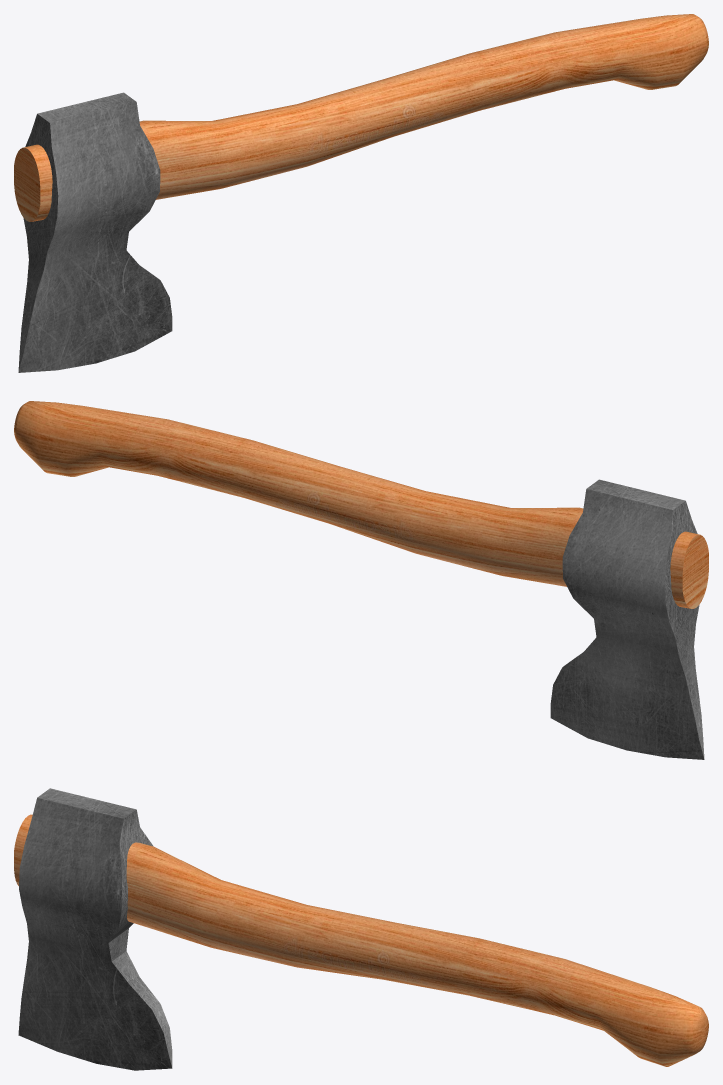
The model's file is AXE-split.fbx.
The picture shows the model from 3 angles, top to bottom: view 1: azimuth 30°, elevation 25°; view 2: azimuth 150°, elevation 25°; view 3: azimuth 330°, elevation 25°; orthographic projection.
Visible parts, largest first — view 1: handle, blade; view 2: handle, blade; view 3: handle, blade.
Part boxes in pixels (x1,y1,x2,y2): handle: [14, 14, 708, 221]; blade: [18, 92, 172, 372]; handle: [14, 401, 708, 608]; blade: [550, 479, 704, 759]; handle: [14, 814, 708, 1066]; blade: [18, 788, 172, 1070].
Size of the model in its own units: 278 by 100 by 27.12.
